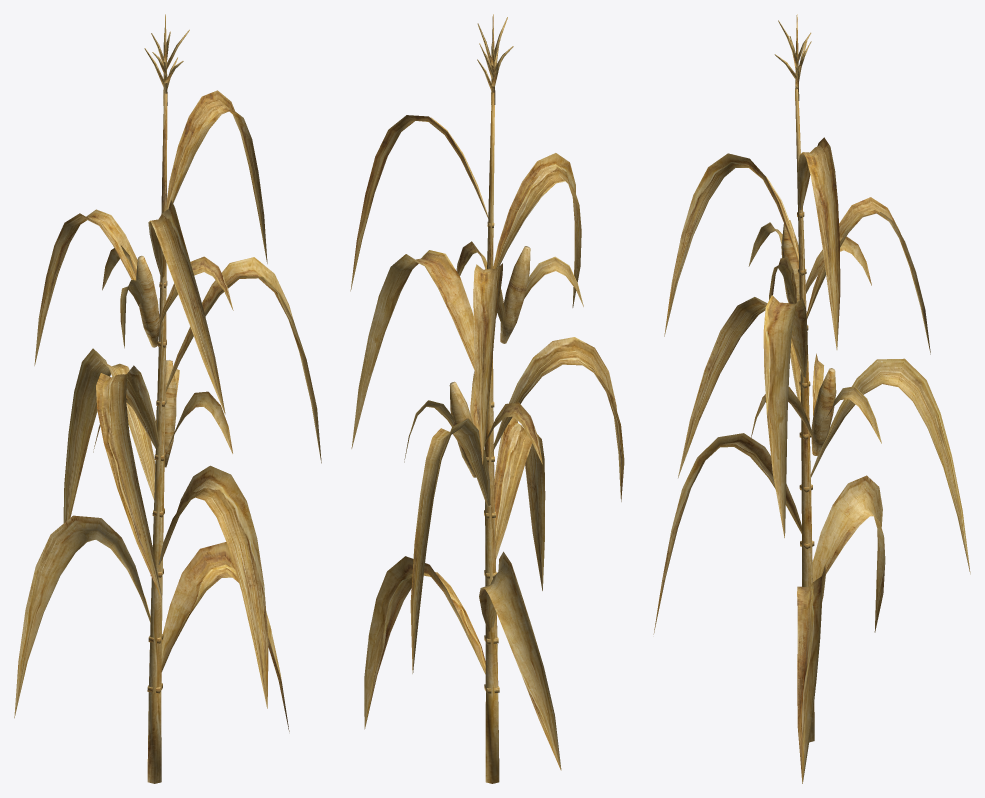
File: Corn_A_Near.fbx
3 renders of one model, left to right at view 1: azimuth 30°, elevation 25°; view 2: azimuth 150°, elevation 25°; view 3: azimuth 270°, elevation 25°, orthographic. The views are drawn at different scales.
Parts seen in each view (by area): view 1: Corn_A_Near; view 2: Corn_A_Near; view 3: Corn_A_Near.
Part boxes in pixels (x1,y1,x2,y2): Corn_A_Near: (14,14,321,783); Corn_A_Near: (350,14,624,783); Corn_A_Near: (653,14,970,783).
Size of the model in its own units: 2.83 by 8 by 3.16.
Materials: 1 (1 with a texture image).
